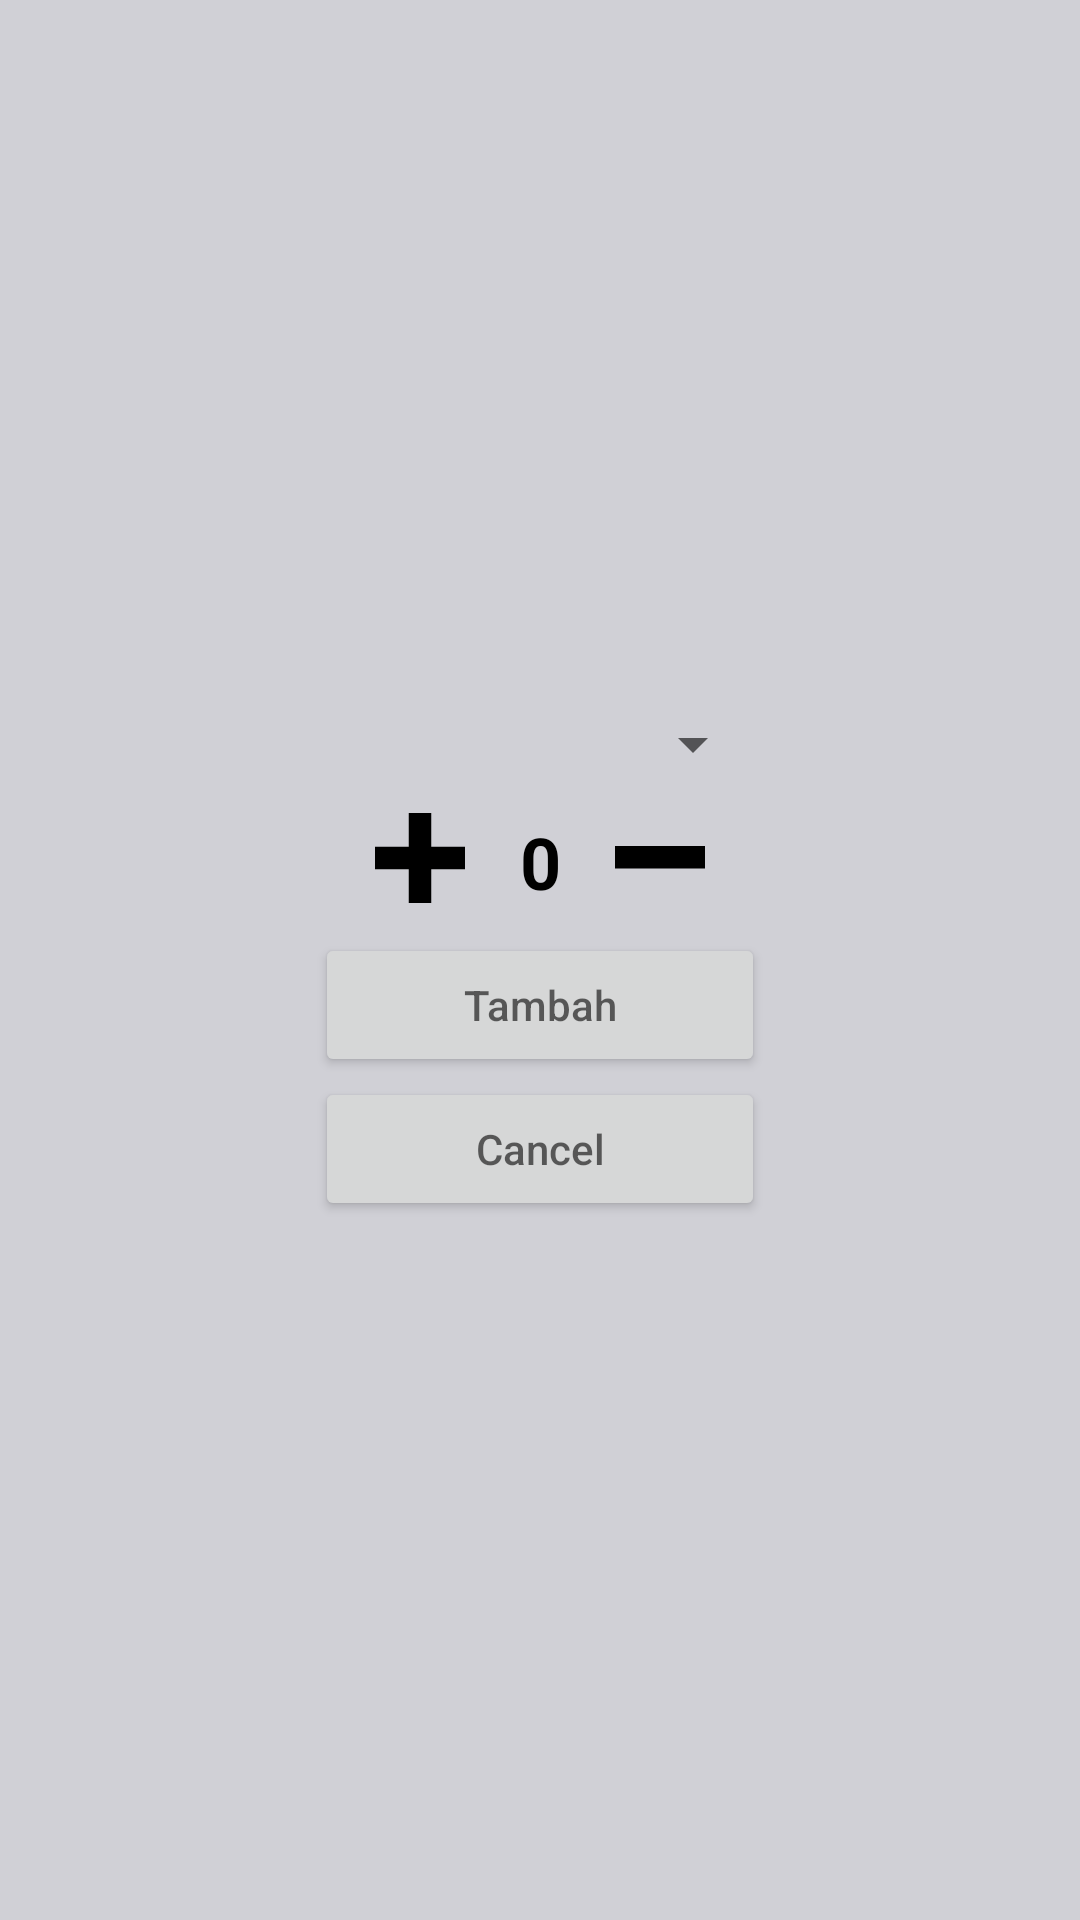

Where to tap for icons on this 1080x1920 app screen, as (x,y):
minus: (660,857)
plus: (420,858)
